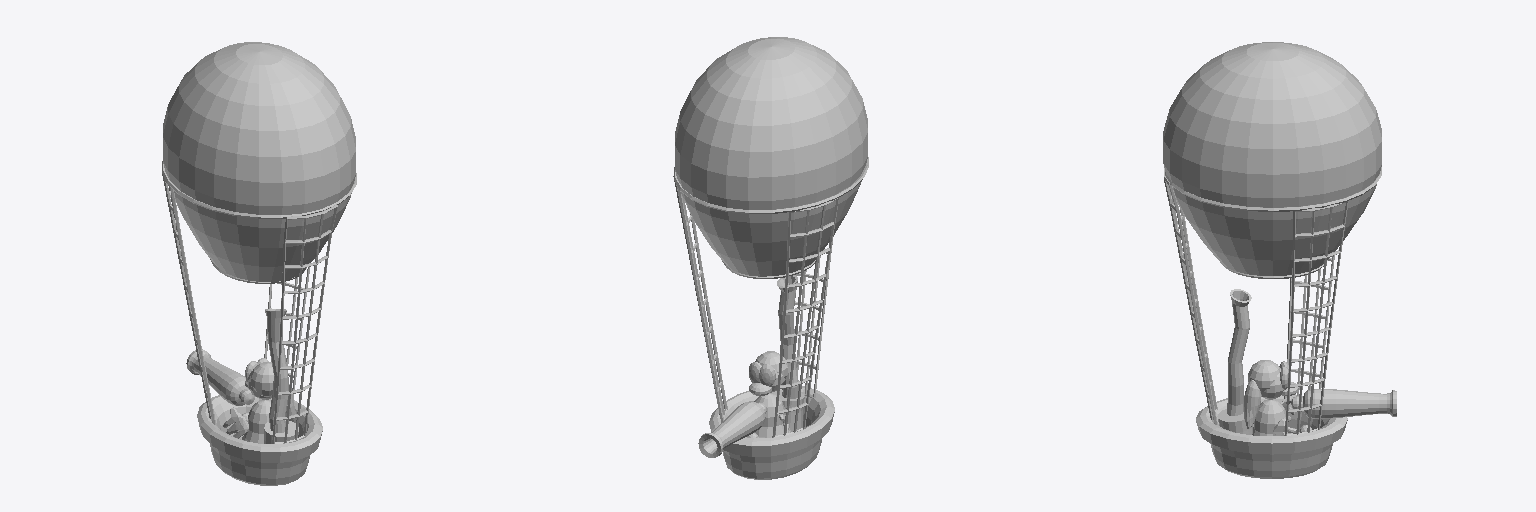
File: airship.obj
3 views of the same model, side by side, from view 1: azimuth 30°, elevation 25°; view 2: azimuth 150°, elevation 25°; view 3: azimuth 270°, elevation 25° (orthographic).
Visible parts, largest first — view 1: Sphere01, Object04, Line01, Object05, Plane03, Object03, Line02, Plane01, Tube01, Torus01, Sphere03, Plane02 (+1 smaller); view 2: Sphere01, Object05, Object03, Line01, Object04, Plane01, Plane02, Line02, Tube01, Plane03, Torus01, Sphere03; view 3: Sphere01, Object03, Line01, Object04, Object05, Plane02, Plane03, Line02, Tube01, Plane01, Torus01, Sphere03 (+2 smaller).
Part boxes in pixels (left/top/right/bottom): Sphere01: left=163, top=42, right=355, bottom=281; Object04: left=214, top=42, right=269, bottom=281; Line01: left=197, top=395, right=322, bottom=485; Object05: left=200, top=45, right=350, bottom=278; Plane03: left=272, top=204, right=337, bottom=443; Object03: left=163, top=48, right=318, bottom=266; Line02: left=186, top=349, right=254, bottom=405; Plane01: left=162, top=174, right=215, bottom=424; Tube01: left=265, top=309, right=288, bottom=432; Torus01: left=162, top=161, right=356, bottom=218; Sphere03: left=242, top=400, right=270, bottom=443; Plane02: left=264, top=267, right=309, bottom=400; Sphere01: left=675, top=37, right=867, bottom=275; Object05: left=726, top=37, right=787, bottom=276; Object03: left=712, top=43, right=851, bottom=271; Line01: left=709, top=386, right=834, bottom=479; Object04: left=675, top=44, right=867, bottom=269; Plane01: left=772, top=197, right=839, bottom=437; Plane02: left=673, top=176, right=727, bottom=422; Line02: left=698, top=401, right=766, bottom=457; Tube01: left=777, top=275, right=798, bottom=398; Plane03: left=782, top=236, right=833, bottom=398; Torus01: left=674, top=157, right=868, bottom=213; Sphere03: left=754, top=393, right=790, bottom=437; Sphere01: left=1163, top=42, right=1381, bottom=275; Object03: left=1247, top=42, right=1298, bottom=275; Line01: left=1196, top=394, right=1347, bottom=478; Object04: left=1232, top=44, right=1375, bottom=270; Object05: left=1163, top=47, right=1361, bottom=266; Plane02: left=1284, top=201, right=1348, bottom=435; Plane03: left=1164, top=168, right=1217, bottom=424; Line02: left=1291, top=389, right=1396, bottom=418; Tube01: left=1227, top=289, right=1251, bottom=415; Plane01: left=1284, top=255, right=1334, bottom=399; Torus01: left=1165, top=167, right=1381, bottom=211; Sphere03: left=1252, top=399, right=1290, bottom=435.
Size of the model in its own units: 40.63 by 98.31 by 50.2.